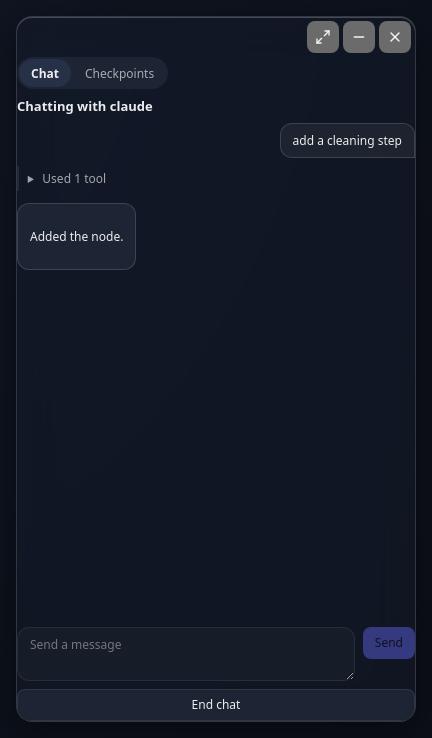
it: renders each turn's user message, narration, and agent reply
expect the element with test id "chat-turn" shows "add a cleaning step": met, box [292, 132, 402, 149]
Step 1. Click the button with test id "chat-turn-activity-summary" → (58, 178), box [17, 166, 415, 191]
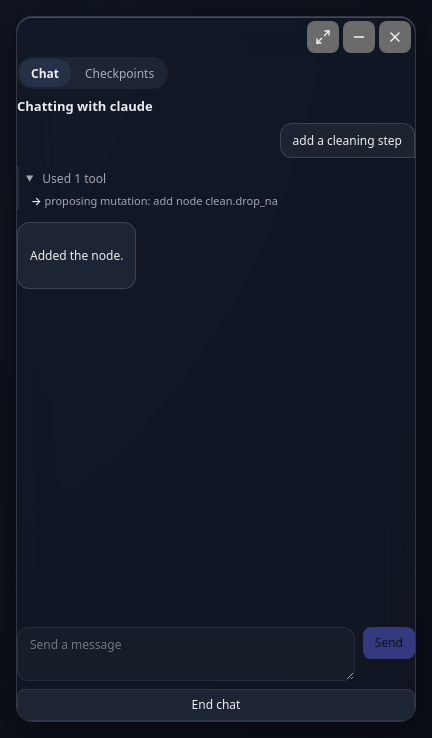
expect the element with test id "chat-turn" shows "Added the node.": met, box [30, 247, 123, 264]
expect the element with test id "chat-turn" shows "proposing mutation: add node clean.drop_na": met, box [44, 193, 278, 208]
